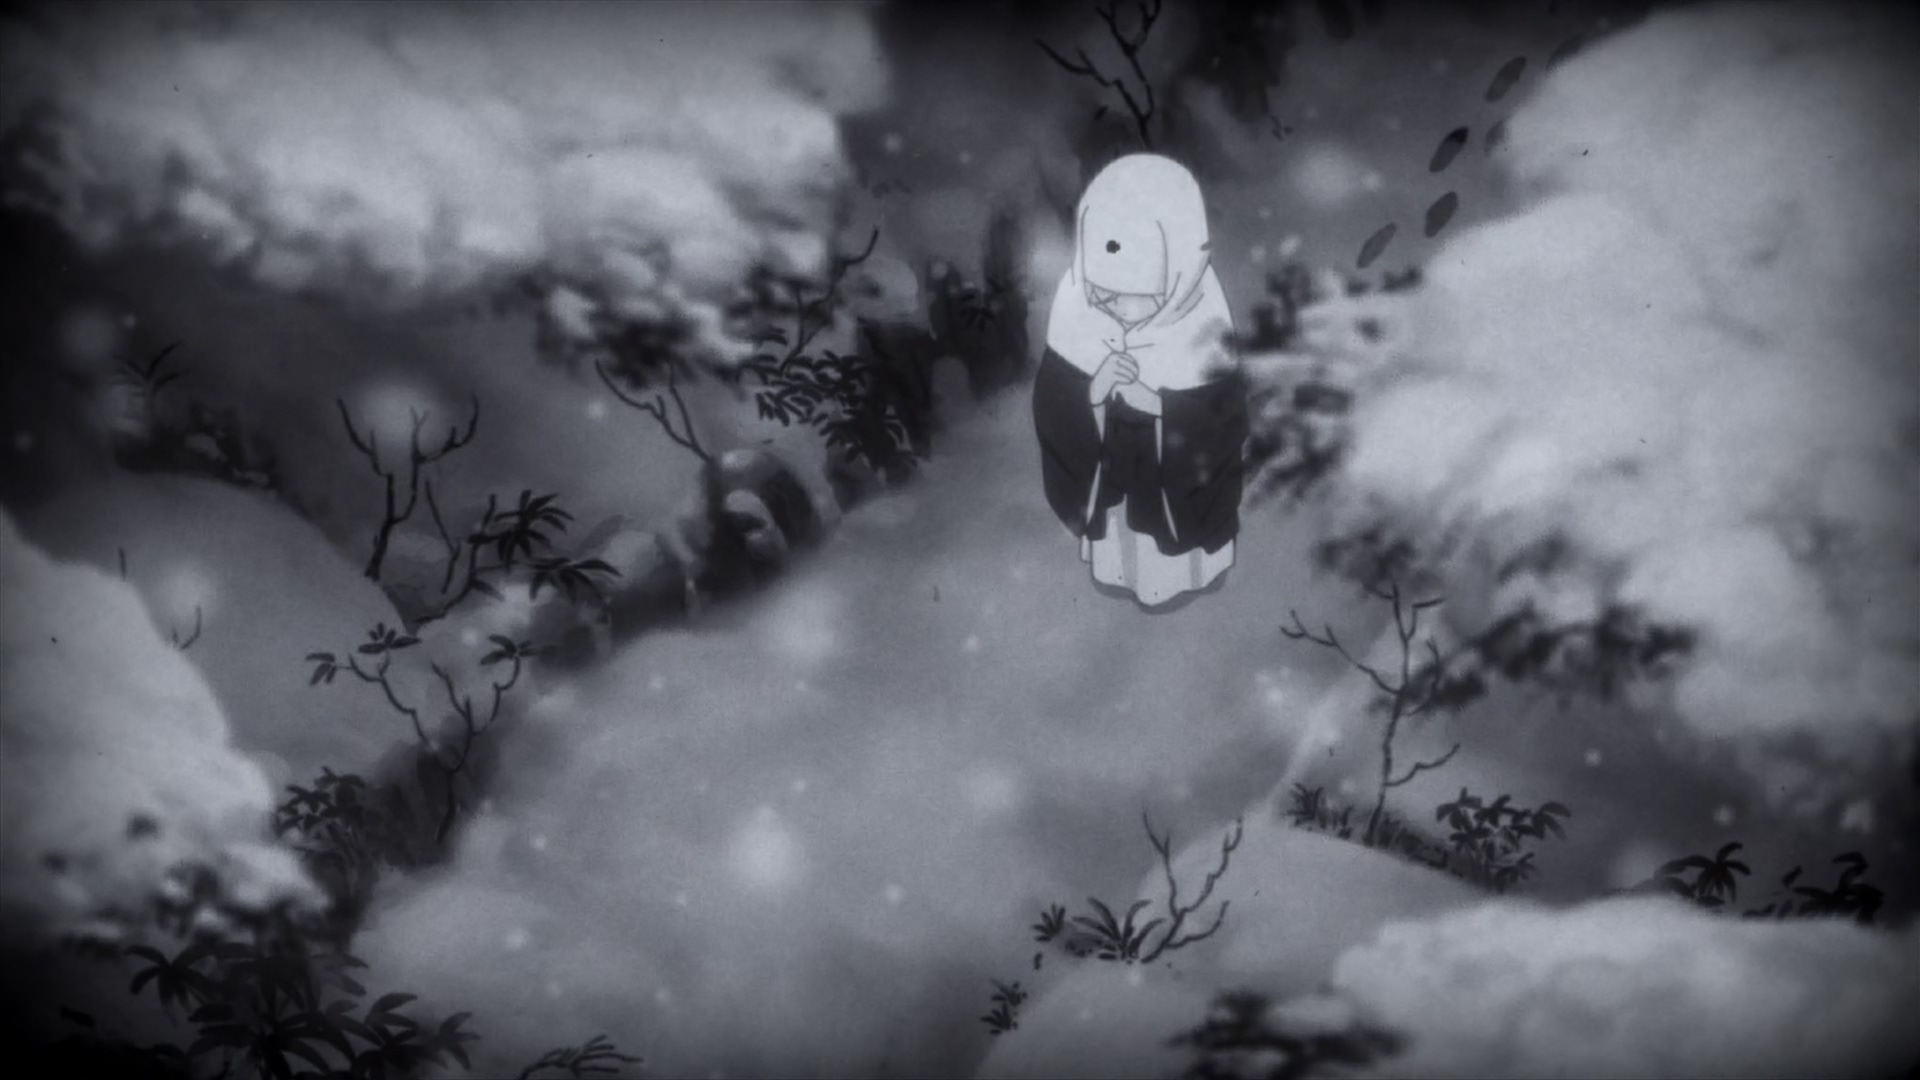八百比丘尼: (1029, 149, 1255, 613)
